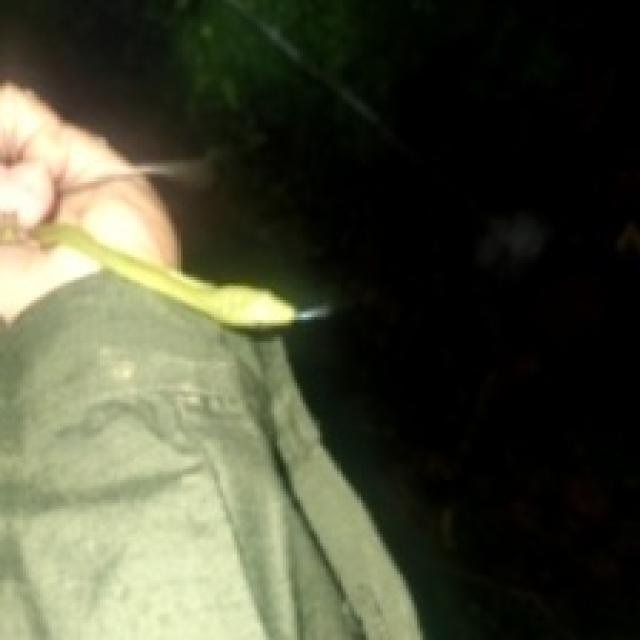red-tailed green ratsnake: (0, 171, 326, 326)
